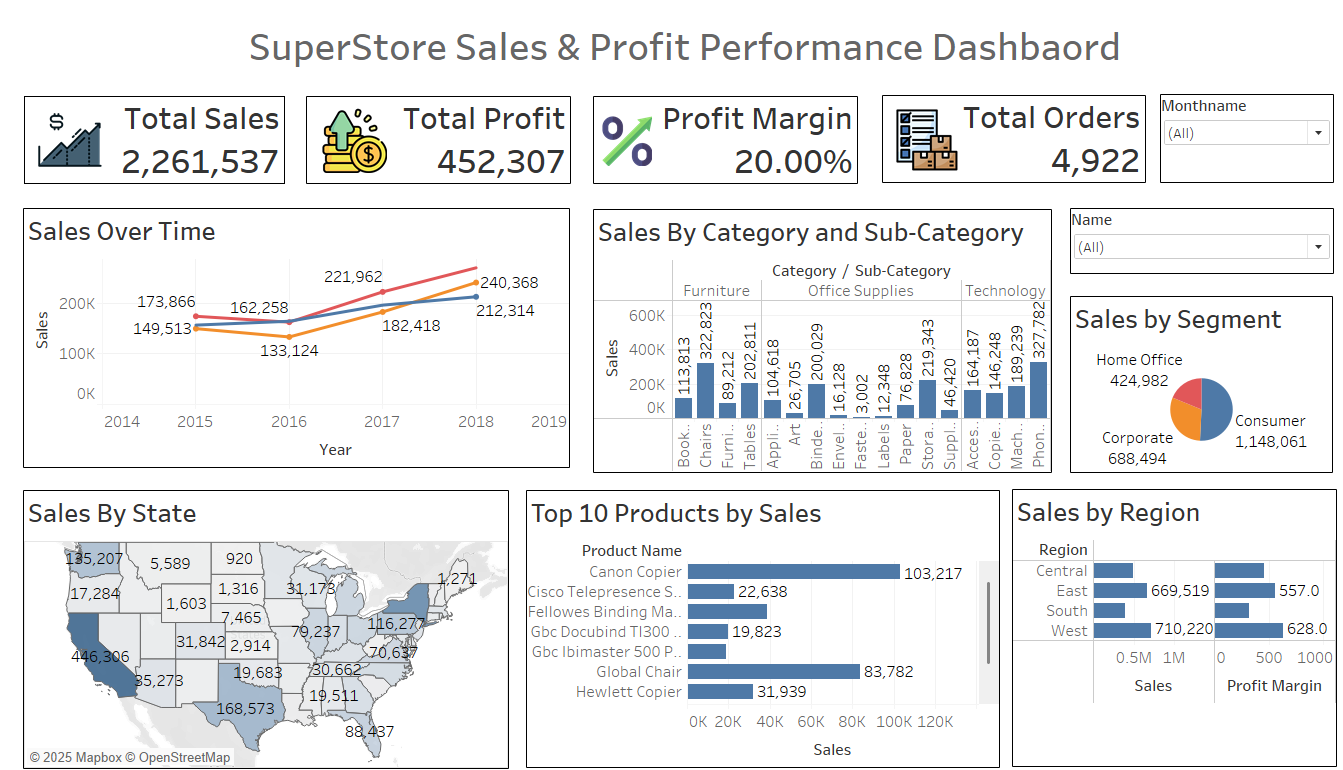

What the dashboard file says about the page in this screenshot:
{"tool":"tableau","page":{"name":"Dashboard 1","canvas":[1000,1000],"units":"permille","ordinal":0},"visuals":[{"type":"text","box":[15.9,13.7,984.9,87.4]},{"type":"filter","title":"Sheet 1","param":"[federated.1r44ed51hk3vjb16rfmhq11tzid0].[none:MONTHNAME:nk]","box":[860,118.5,128.9,111]},{"type":"worksheet","title":"Total Orders","mark":"Automatic","box":[654.1,119.7,195.6,109.7]},{"type":"worksheet","title":"Total Sales","mark":"Automatic","box":[18.5,121,193.3,109.7]},{"type":"worksheet","title":"Total Profit","mark":"Automatic","box":[227.4,121,196.3,109.7]},{"type":"worksheet","title":"Profit Margin","mark":"Automatic","box":[440,121,196.3,109.7]},{"type":"image","param":"C:/Users/Vedika/Downloads/increase.png","box":[26.7,132.2,51.1,87.3]},{"type":"image","param":"C:/Users/Vedika/Downloads/profits.png","box":[239.3,135.9,57.8,81]},{"type":"image","param":"C:/Users/Vedika/Downloads/order.png","box":[663.7,135.9,48.9,78.5]},{"type":"image","param":"C:/Users/Vedika/Downloads/increase (1).png","box":[446.7,145.9,37,81]},{"type":"worksheet","title":"Sheet 1","mark":"Automatic","rows":["Sales"],"cols":["YEAR"],"box":[17.8,260.6,405.2,324.2]},{"type":"filter","title":"Sheet 3","param":"[federated.1r44ed51hk3vjb16rfmhq11tzid0].[none:Name:nk]","box":[793.3,260.6,195.6,82.3]},{"type":"worksheet","title":"Sheet 3","mark":"Bar","rows":["Sales"],"cols":["Category","Sub-Category"],"box":[440,261.9,340,329.2]},{"type":"worksheet","title":"Sheet 12","mark":"Pie","box":[793.3,370.3,194.8,220.7]},{"type":"worksheet","title":"Sheet 5","mark":"Automatic","rows":["Region"],"cols":["Sales","Calculation_1315332606062120962"],"box":[750.4,611,240.7,346.6]},{"type":"worksheet","title":"Sheet 2","mark":"Multipolygon","box":[17.8,612.2,360,347.9]},{"type":"worksheet","title":"Sheet 4","mark":"Automatic","rows":["Product Name"],"cols":["Sales"],"box":[390.4,612.2,351.1,346.6]}]}

Visuals, with their boxes on the dashboard's canvas, which has no fixed pixel size, in thousandths of its width and height (x1, y1, x2, y2). These are canvas units, not pixel positions in the 1343x770 screenshot, which may show the page scaled, cropped or inside an application window:
text: crop(16, 14, 1001, 101)
"Sheet 1" filter: crop(860, 118, 989, 230)
"Total Orders" worksheet: crop(654, 120, 850, 229)
"Total Sales" worksheet: crop(18, 121, 212, 231)
"Total Profit" worksheet: crop(227, 121, 424, 231)
"Profit Margin" worksheet: crop(440, 121, 636, 231)
image: crop(27, 132, 78, 220)
image: crop(239, 136, 297, 217)
image: crop(664, 136, 713, 214)
image: crop(447, 146, 484, 227)
"Sheet 1" worksheet: crop(18, 261, 423, 585)
"Sheet 3" filter: crop(793, 261, 989, 343)
"Sheet 3" worksheet (Bar marks): crop(440, 262, 780, 591)
"Sheet 12" worksheet (Pie marks): crop(793, 370, 988, 591)
"Sheet 5" worksheet: crop(750, 611, 991, 958)
"Sheet 2" worksheet (Multipolygon marks): crop(18, 612, 378, 960)
"Sheet 4" worksheet: crop(390, 612, 742, 959)
